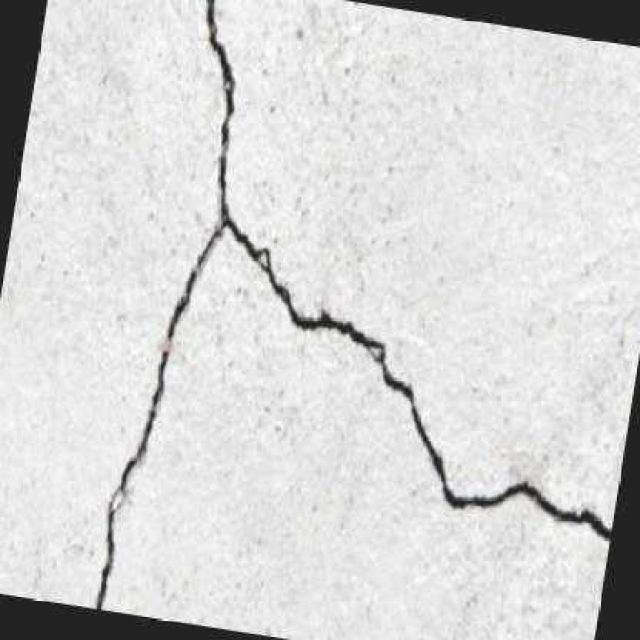D00: (93, 0, 612, 610)
